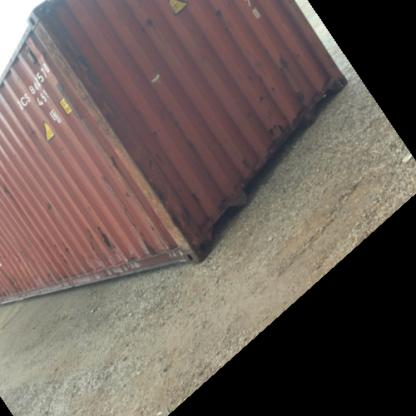Damage: (36, 15, 125, 141), (5, 234, 72, 284), (81, 218, 136, 272), (141, 148, 179, 214), (98, 148, 136, 208), (138, 223, 182, 263), (242, 66, 275, 105), (186, 188, 216, 226), (135, 6, 164, 40), (272, 46, 301, 72), (38, 192, 64, 216), (265, 117, 289, 139), (285, 86, 311, 102), (234, 153, 258, 170), (142, 121, 166, 136), (208, 4, 226, 22)
